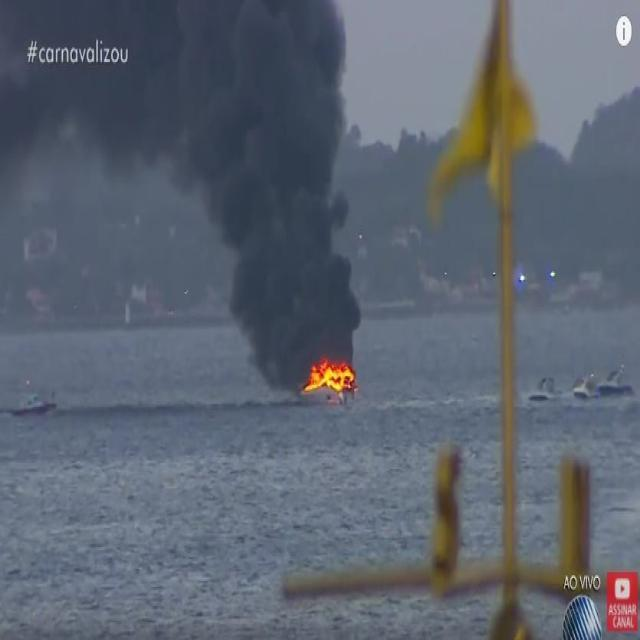Fire: (300, 354, 356, 394)
Smoke: (120, 0, 359, 353)
